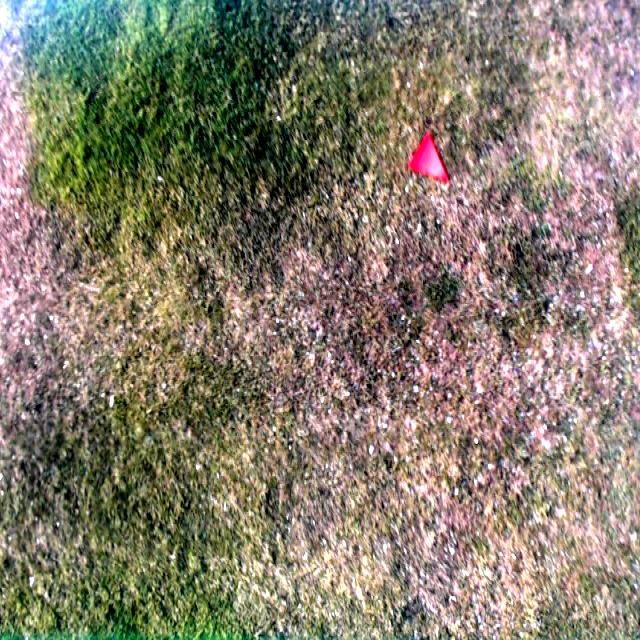red_triangle: (408, 132, 450, 183)
